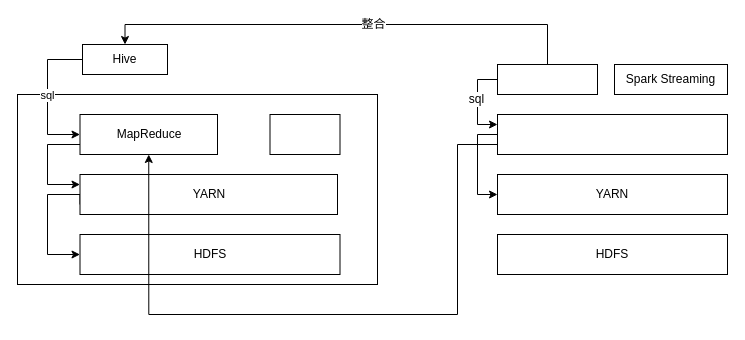
This 745x340 diagram has some shape labels left out. The centre of each missing label's shape, as x and y in pixels:
"Spark Core （java 、 scala）" goes at pixel 612 134.
"Spark SQL" goes at pixel 547 79.
"Storm" goes at pixel 304 134.
